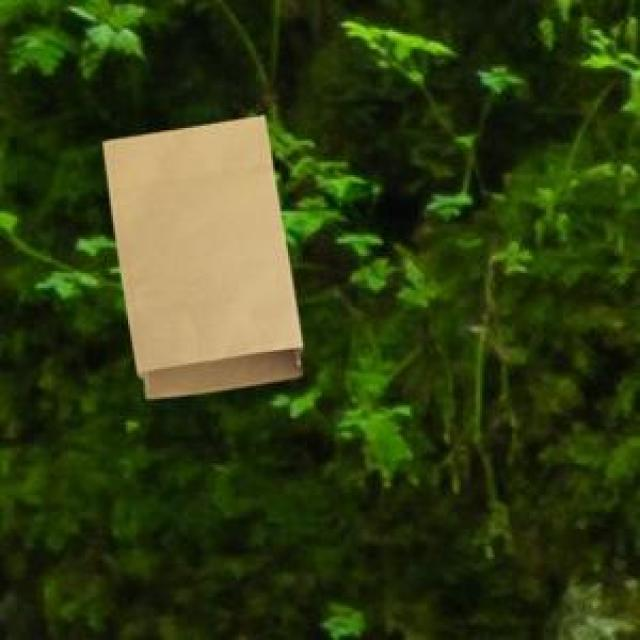paper: (98, 111, 299, 395)
